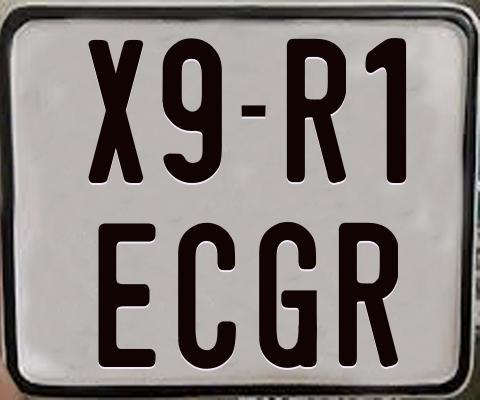1: (365, 37, 408, 183)
9: (160, 37, 223, 184)
C: (177, 223, 237, 369)
E: (96, 222, 155, 366)
G: (257, 221, 319, 368)
R: (287, 36, 349, 181), (337, 222, 396, 372)
X: (87, 38, 147, 183)
